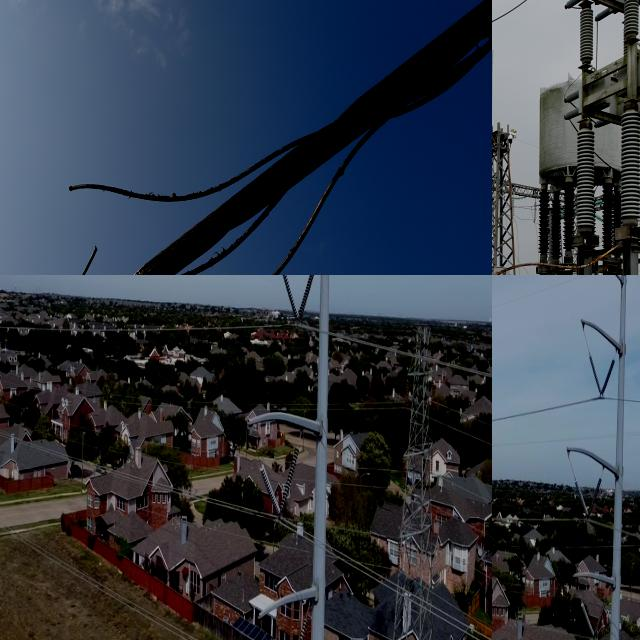杆塔: (389, 319, 438, 640)
正常绝缘子: (578, 471, 608, 534), (278, 447, 301, 516), (582, 341, 606, 403), (572, 585, 598, 640), (569, 464, 591, 526), (588, 589, 613, 640), (259, 462, 282, 517), (596, 353, 619, 407), (296, 275, 316, 323), (282, 275, 301, 323), (400, 454, 407, 498), (403, 372, 412, 404), (298, 618, 309, 640), (396, 539, 402, 574), (429, 446, 434, 479)
电缆破损: (0, 52, 406, 275)
